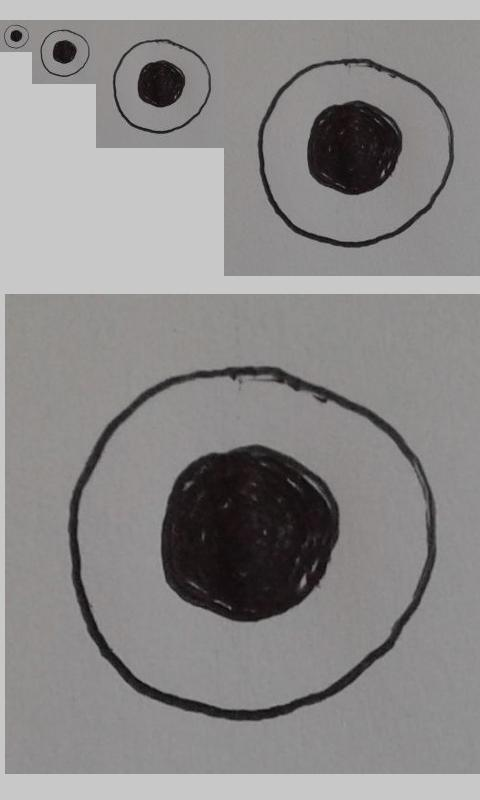radio_button: (65, 361, 440, 724), (254, 55, 457, 250), (111, 38, 212, 135), (40, 29, 91, 77), (3, 24, 29, 49)
